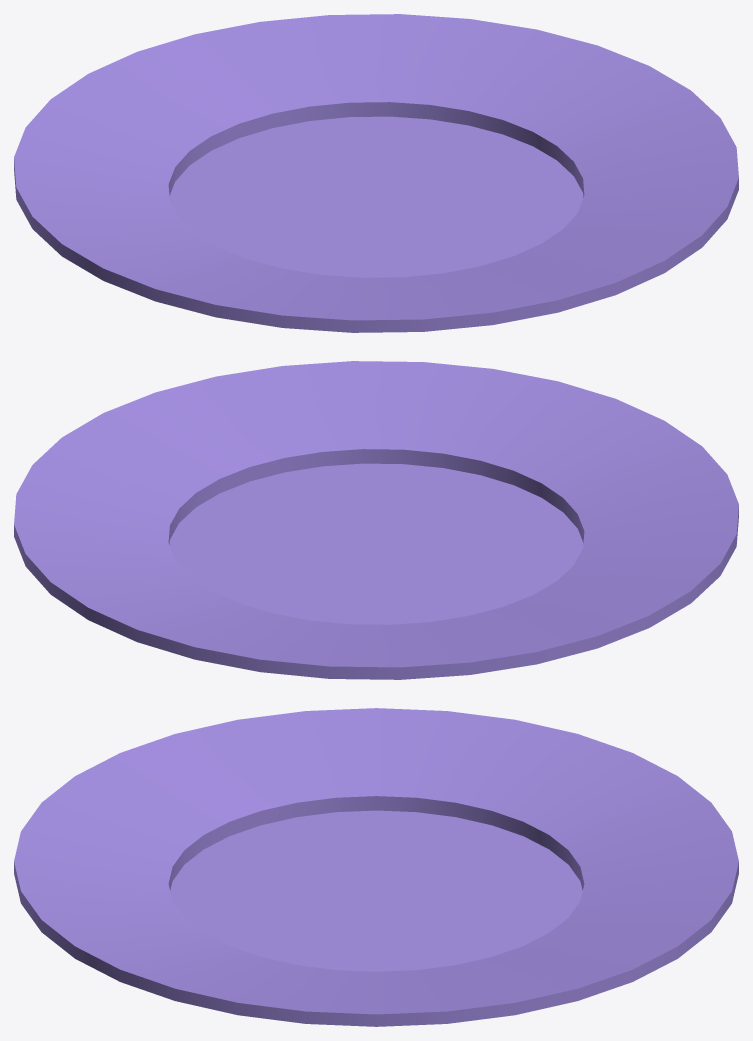
File: PROPS_OTHER_PLATE_MODEL.fbx
3 views of the same model, one above another, from view 1: azimuth 30°, elevation 25°; view 2: azimuth 150°, elevation 25°; view 3: azimuth 270°, elevation 25° (orthographic).
Parts seen in each view (by area): view 1: PROPS_OTHER_PLATE_MODEL; view 2: PROPS_OTHER_PLATE_MODEL; view 3: PROPS_OTHER_PLATE_MODEL.
Part boxes in pixels (x1,y1,x2,y2): PROPS_OTHER_PLATE_MODEL: [14, 14, 738, 332]; PROPS_OTHER_PLATE_MODEL: [14, 361, 738, 679]; PROPS_OTHER_PLATE_MODEL: [14, 708, 738, 1026].
Bounding box in the file's own units: 26.23 × 1.81 × 26.23.
